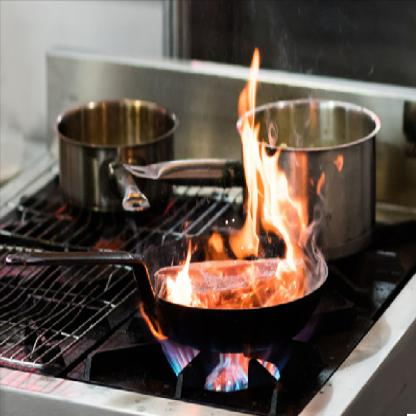fire: (161, 46, 319, 307), (156, 336, 278, 391)
